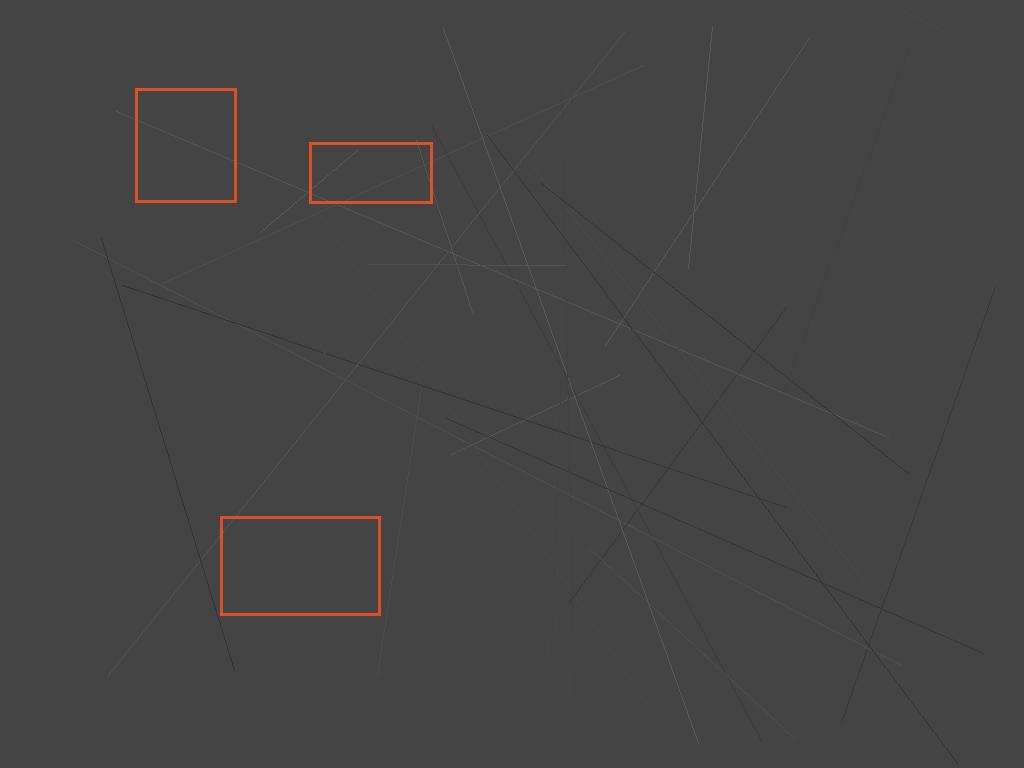D20: (220, 516, 380, 615), (135, 88, 236, 202), (309, 142, 432, 203)
